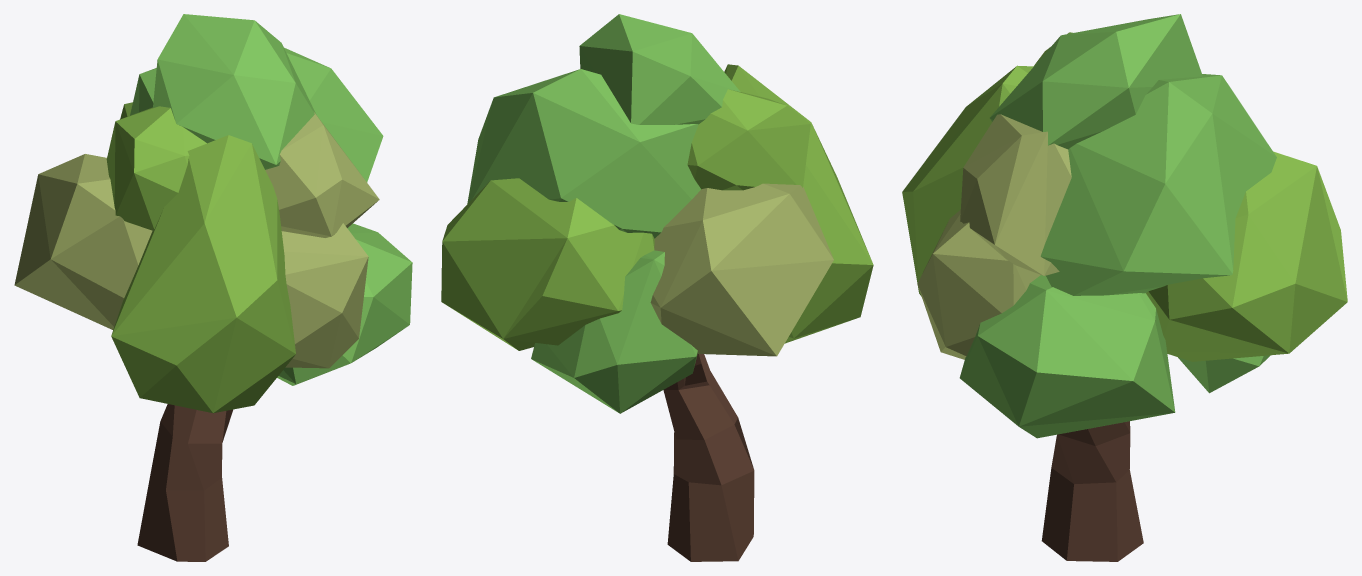
File: Tree4.fbx
The picture shows the model from 3 angles, left to right: view 1: azimuth 30°, elevation 25°; view 2: azimuth 150°, elevation 25°; view 3: azimuth 270°, elevation 25°; orthographic projection. The views are drawn at different scales.
Visible parts, largest first — view 1: Tree Crown Triangle.056, Tree Crown Triangle.063, Tree Crown Triangle.045, Cylinder.007, Tree Crown Triangle.064, Tree Crown Triangle.062, Tree Crown Triangle.059, Tree Crown Triangle.054, Tree Crown Triangle.053; view 2: Tree Crown Triangle.049, Tree Crown Triangle.045, Tree Crown Triangle.053, Cylinder.007, Tree Crown Triangle.060, Tree Crown Triangle.063, Tree Crown Triangle.059, Tree Crown Triangle.056; view 3: Tree Crown Triangle.053, Tree Crown Triangle.054, Tree Crown Triangle.049, Tree Crown Triangle.063, Tree Crown Triangle.062, Cylinder.007, Tree Crown Triangle.064, Tree Crown Triangle.056, Tree Crown Triangle.060.
Boxes of the visible parts, bbox=[...] form: Tree Crown Triangle.056: bbox=[111, 135, 295, 413]; Tree Crown Triangle.063: bbox=[153, 14, 316, 169]; Tree Crown Triangle.045: bbox=[14, 154, 152, 329]; Cylinder.007: bbox=[137, 404, 232, 561]; Tree Crown Triangle.064: bbox=[281, 223, 368, 368]; Tree Crown Triangle.062: bbox=[265, 112, 379, 237]; Tree Crown Triangle.059: bbox=[106, 106, 206, 230]; Tree Crown Triangle.054: bbox=[277, 223, 412, 385]; Tree Crown Triangle.053: bbox=[130, 47, 383, 182]; Tree Crown Triangle.049: bbox=[441, 178, 654, 350]; Tree Crown Triangle.045: bbox=[650, 183, 833, 356]; Tree Crown Triangle.053: bbox=[467, 69, 700, 238]; Cylinder.007: bbox=[663, 354, 754, 561]; Tree Crown Triangle.060: bbox=[531, 250, 697, 413]; Tree Crown Triangle.063: bbox=[579, 14, 740, 124]; Tree Crown Triangle.059: bbox=[687, 89, 810, 190]; Tree Crown Triangle.056: bbox=[724, 64, 873, 343]; Tree Crown Triangle.053: bbox=[1040, 74, 1276, 295]; Tree Crown Triangle.054: bbox=[959, 275, 1175, 438]; Tree Crown Triangle.049: bbox=[1146, 151, 1347, 361]; Tree Crown Triangle.063: bbox=[990, 14, 1202, 149]; Tree Crown Triangle.062: bbox=[960, 114, 1071, 275]; Cylinder.007: bbox=[1041, 421, 1143, 561]; Tree Crown Triangle.064: bbox=[917, 210, 1040, 359]; Tree Crown Triangle.056: bbox=[902, 65, 1033, 296]; Tree Crown Triangle.060: bbox=[1178, 355, 1270, 393].
Bounding box in the file's own units: 108 × 152 × 111.
